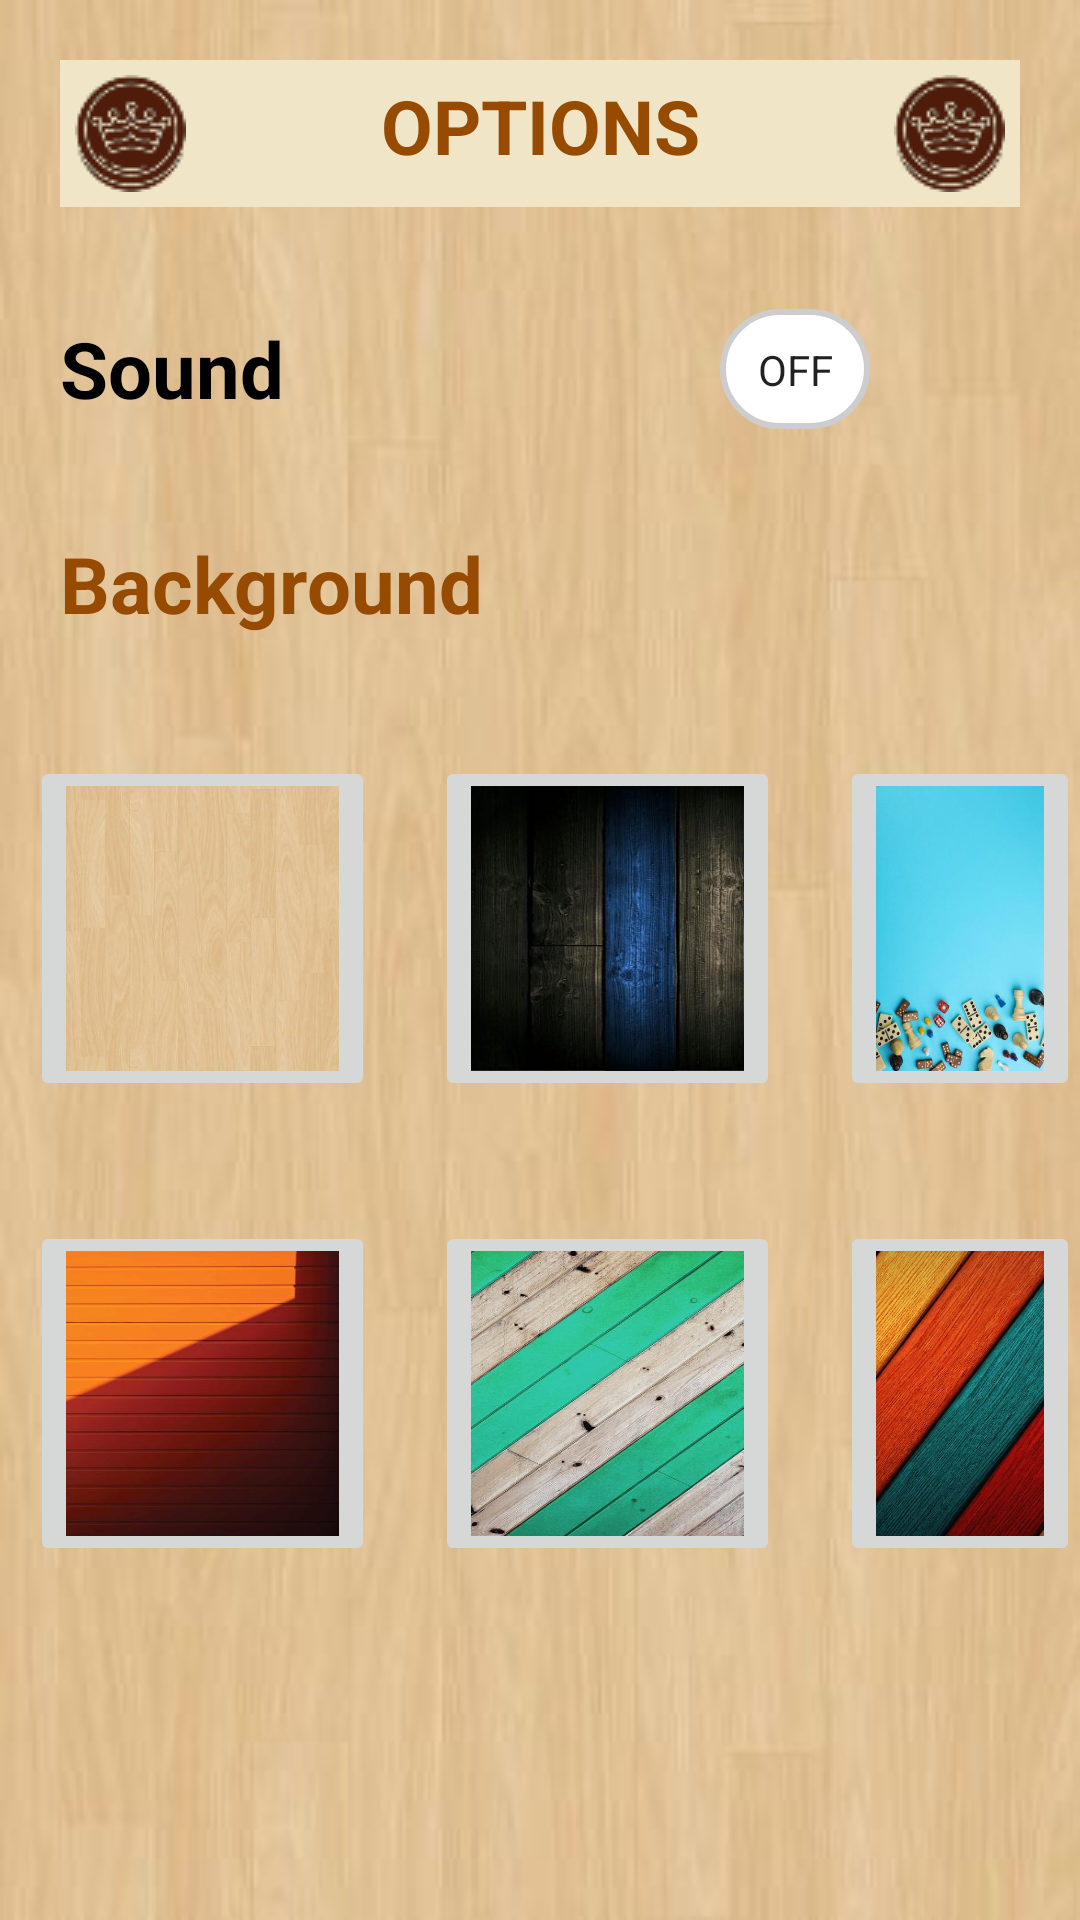

Screen size 1080×1920. Icon name, then its center in pixels as (x,y):
blackwoodback: (607,928)
colourful: (960,1393)
cyan: (960,928)
whitewood: (202,928)
